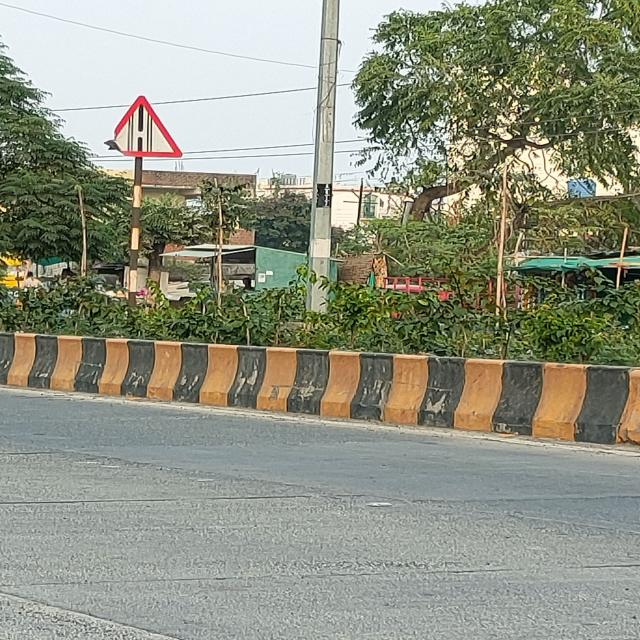GAP_IN_MEDIAN: (108, 94, 182, 158)
